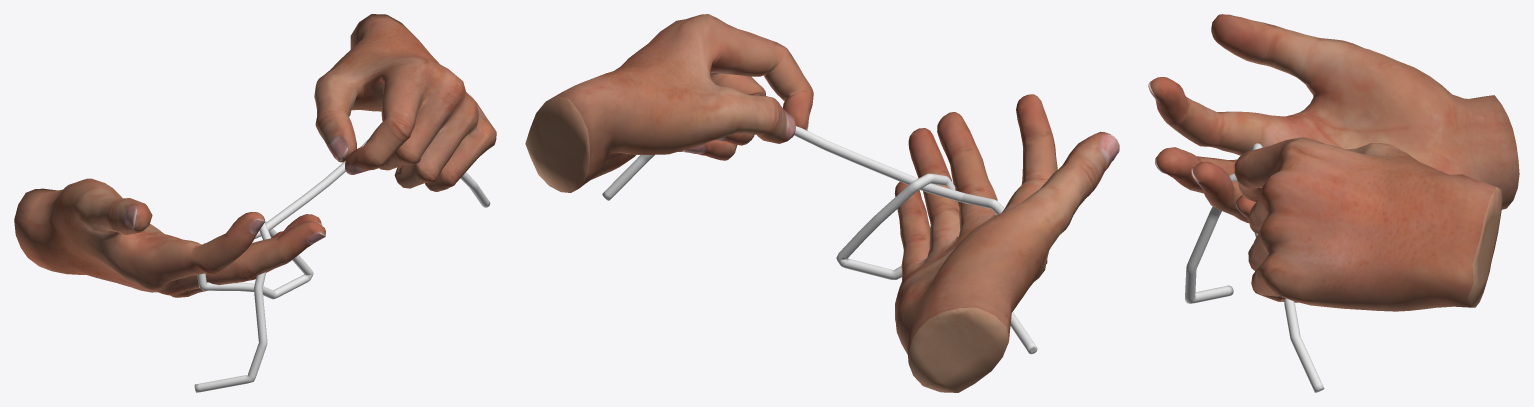
Rendered from mfk_part4_assi_letgo.fbx.
3 views of the same model, side by side, from view 1: azimuth 30°, elevation 25°; view 2: azimuth 150°, elevation 25°; view 3: azimuth 270°, elevation 25° (orthographic). The views are drawn at different scales.
Parts seen in each view (by area): view 1: Hand_L, Hand_R, faden_R, faden_L; view 2: Hand_R, Hand_L, faden_L, faden_R; view 3: Hand_L, Hand_R, faden_R, faden_L.
Part boxes in pixels (left/top/right/bottom): Hand_L: left=314, top=14, right=496, bottom=191; Hand_R: left=14, top=178, right=325, bottom=297; faden_R: left=194, top=221, right=313, bottom=392; faden_L: left=197, top=139, right=490, bottom=299; Hand_R: left=894, top=94, right=1119, bottom=392; Hand_L: left=525, top=14, right=813, bottom=192; faden_L: left=602, top=126, right=1004, bottom=279; faden_R: left=836, top=173, right=1037, bottom=354; Hand_L: left=1234, top=137, right=1502, bottom=311; Hand_R: left=1148, top=14, right=1519, bottom=223; faden_R: left=1185, top=173, right=1237, bottom=303; faden_L: left=1250, top=143, right=1324, bottom=392.
Size of the model in its own units: 33.05 by 18.99 by 21.13.
